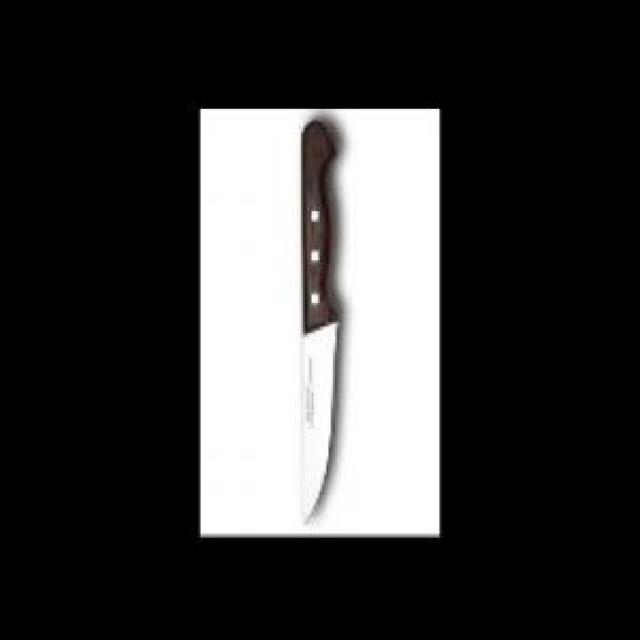knife: (296, 115, 349, 523)
